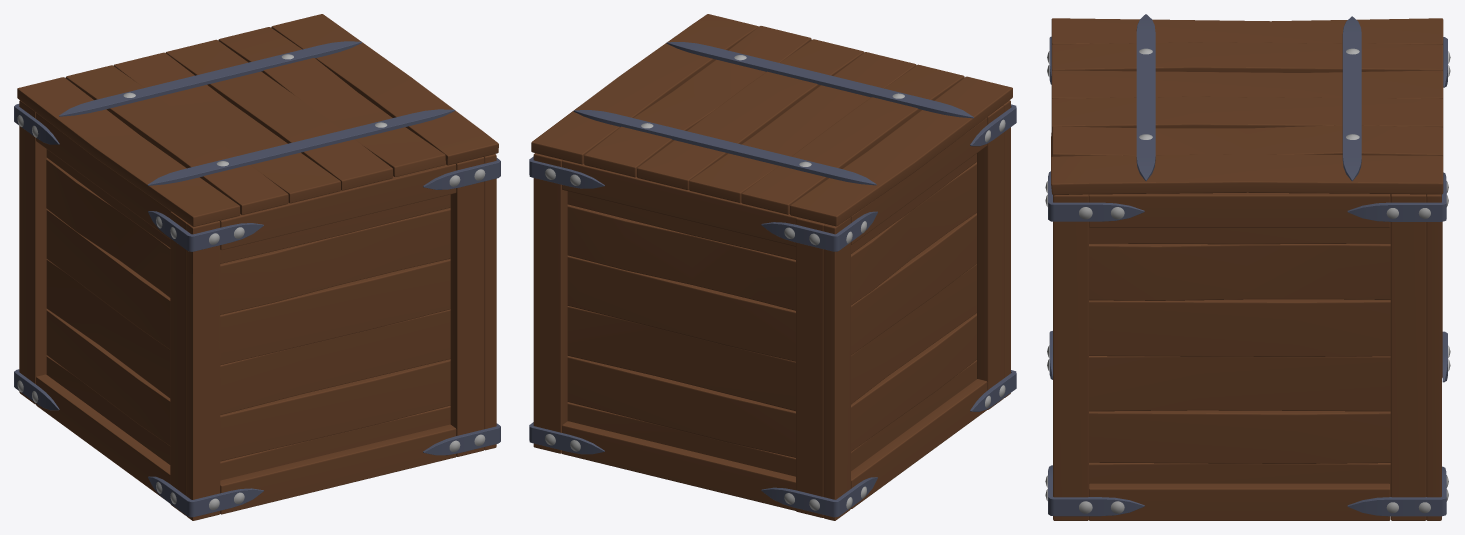
Rendered from Crate_01.fbx.
The picture shows the model from 3 angles, left to right: view 1: azimuth 30°, elevation 25°; view 2: azimuth 150°, elevation 25°; view 3: azimuth 270°, elevation 25°; orthographic projection. The views are drawn at different scales.
Visible parts, largest first — view 1: Crate_01; view 2: Crate_01; view 3: Crate_01.
Part boxes in pixels (x1=…): Crate_01: x1=14, y1=14, x2=500, y2=520; Crate_01: x1=529, y1=14, x2=1016, y2=520; Crate_01: x1=1045, y1=14, x2=1450, y2=520.
Bounding box in the file's own units: 113 × 106 × 113.
